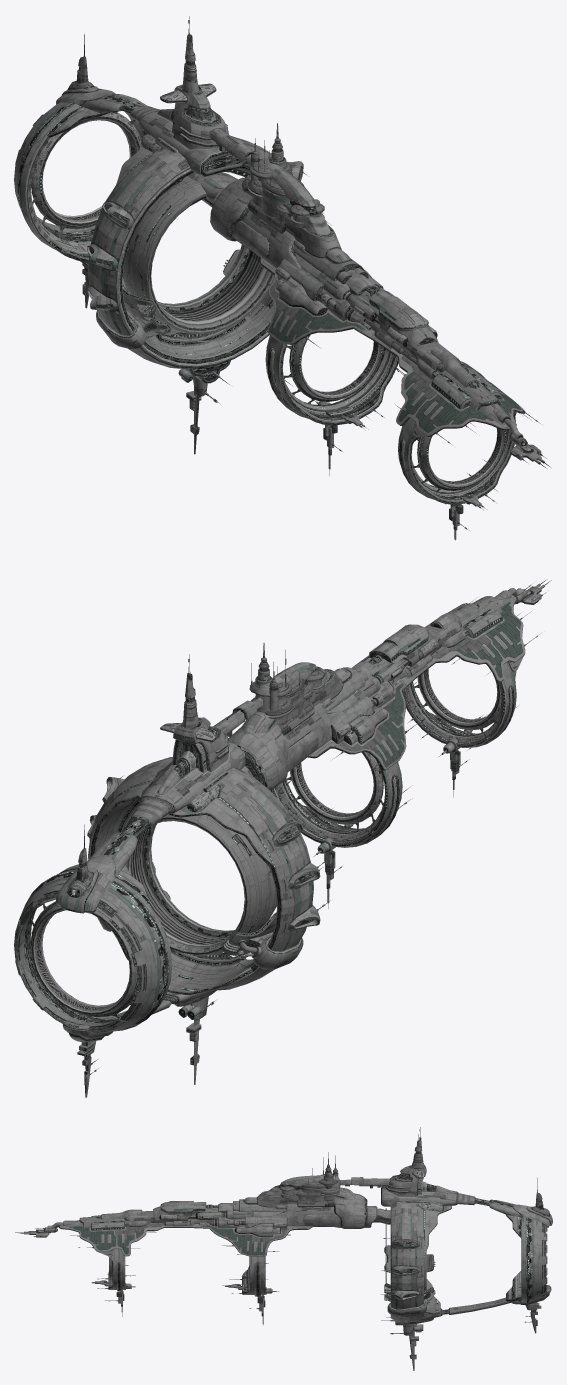
Rendered from 29632_lite.glb.
3 views of the same model, one above another, from view 1: azimuth 30°, elevation 25°; view 2: azimuth 150°, elevation 25°; view 3: azimuth 270°, elevation 25° (orthographic). The views are drawn at different scales.
Parts seen in each view (by area): view 1: ship; view 2: ship; view 3: ship.
Part boxes in pixels (x1,y1,x2,y2): ship: [14, 16, 550, 540]; ship: [14, 579, 551, 1097]; ship: [15, 1127, 552, 1370].
Size of the model in its own units: 28.68 by 51.74 by 103.
1 material, 1 textured.
